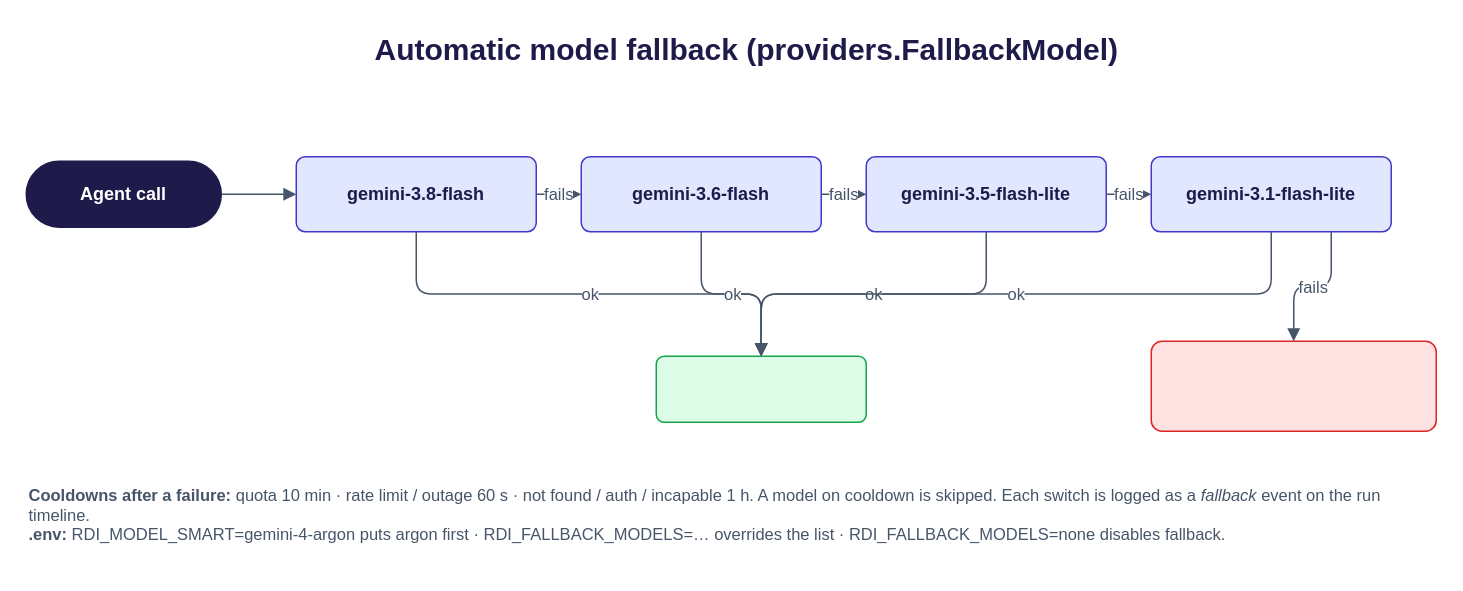
This 1463x591 diagram has some shape labels left out. Here are the shapes that lost their labels. From the top down, the centre of each, then its label:
At (760,388): "response".
At (1293,385): "error → safe_run retry waits 20 s × attempt on 429".
